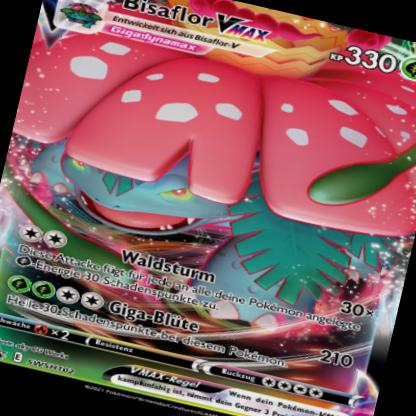Venusaur: (7, 24, 416, 307)
